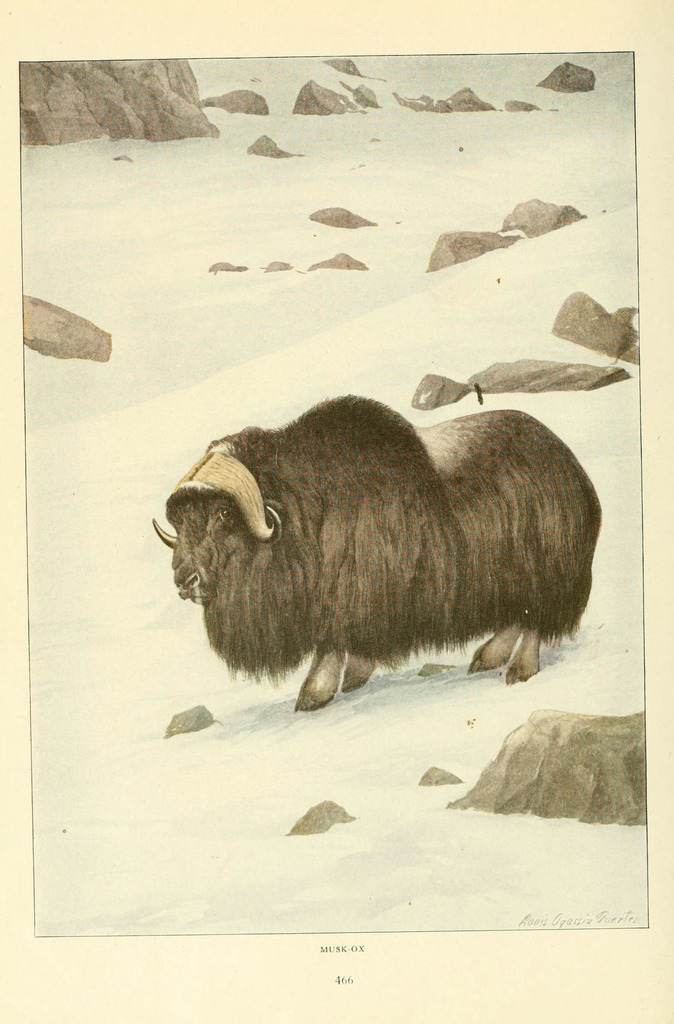Animal: (147, 390, 602, 710)
